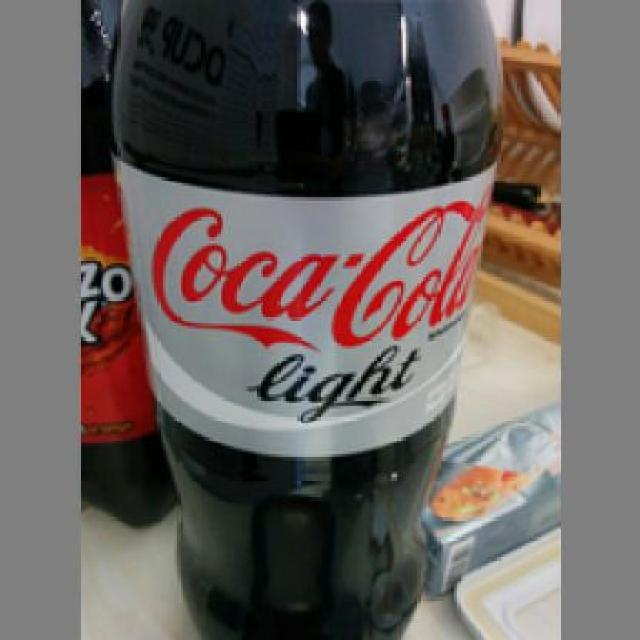Soda: (103, 0, 503, 637)
